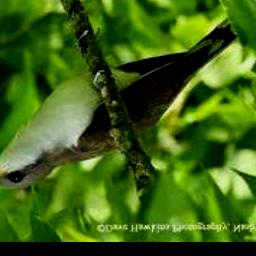Cuckoo: (0, 0, 256, 189)
